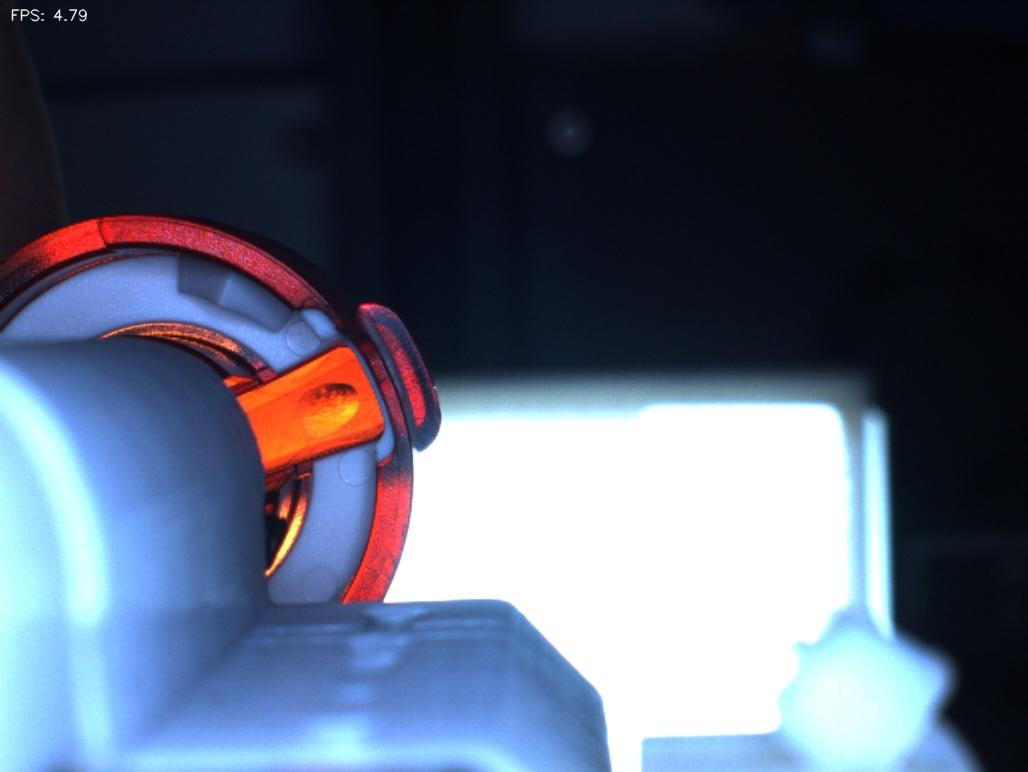Retassure: (281, 368, 374, 443)
